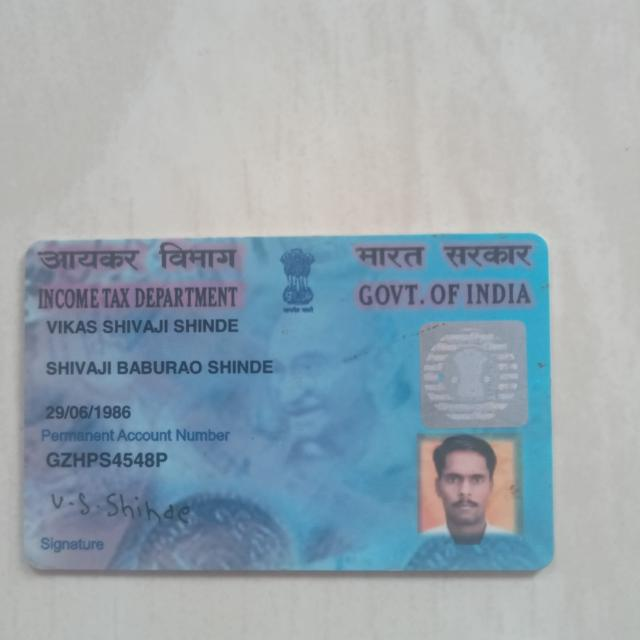pan_card: (22, 233, 553, 568)
